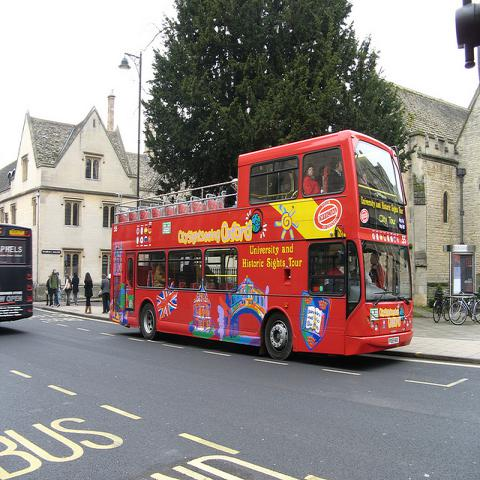bus: (108, 130, 415, 361), (1, 223, 33, 322)
